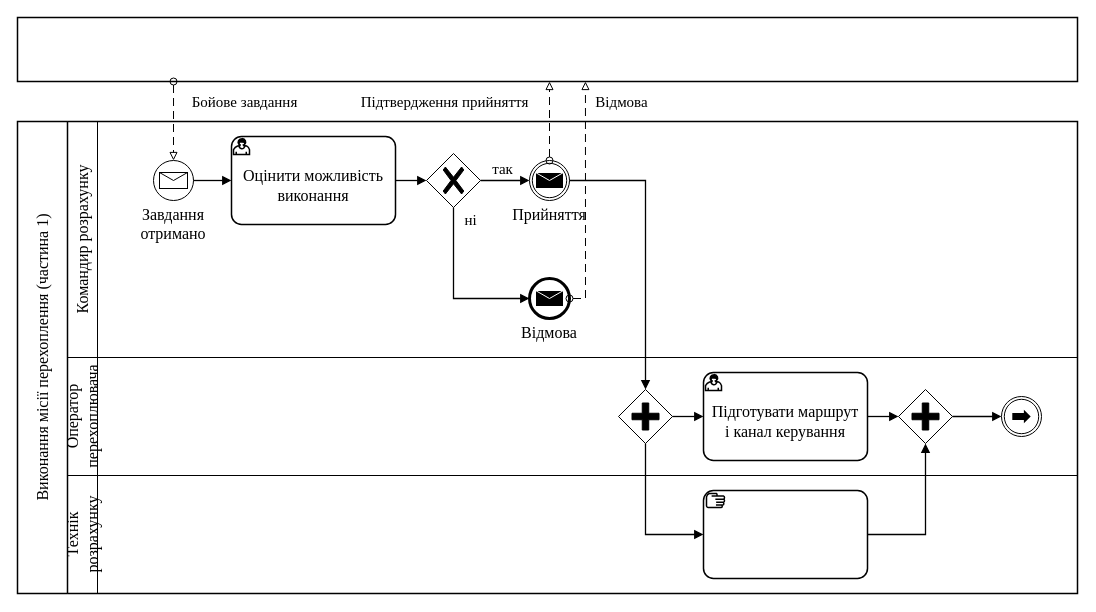
The diagram is 1096 pixels wide and 612 high, and some of its shapes have lost their labels. Each missing label, with the centre of its shape:
"Виконати передпольотний контроль" belongs at point (785, 534).
"До частини 2 (Б)" belongs at point (1021, 416).
"Призначення цілі та санкціонування пуску" belongs at point (547, 49).
"Приймається?" belongs at point (453, 180).
